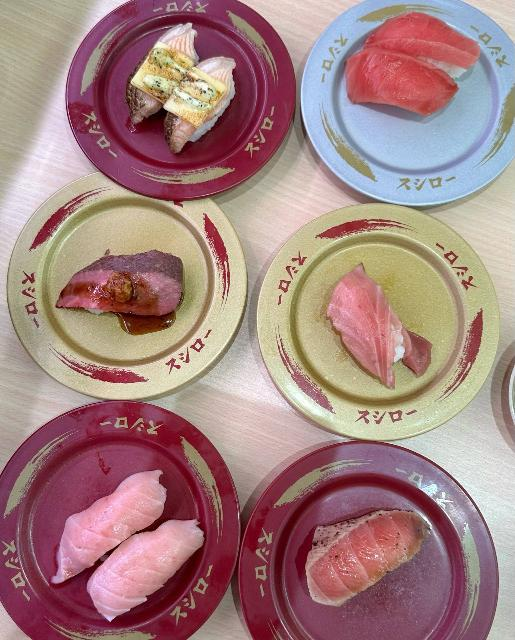jangold: (229, 214, 500, 428), (9, 194, 232, 373)
janred: (44, 12, 272, 210), (1, 451, 242, 619), (256, 466, 474, 632)
janwhite: (324, 22, 507, 201)
